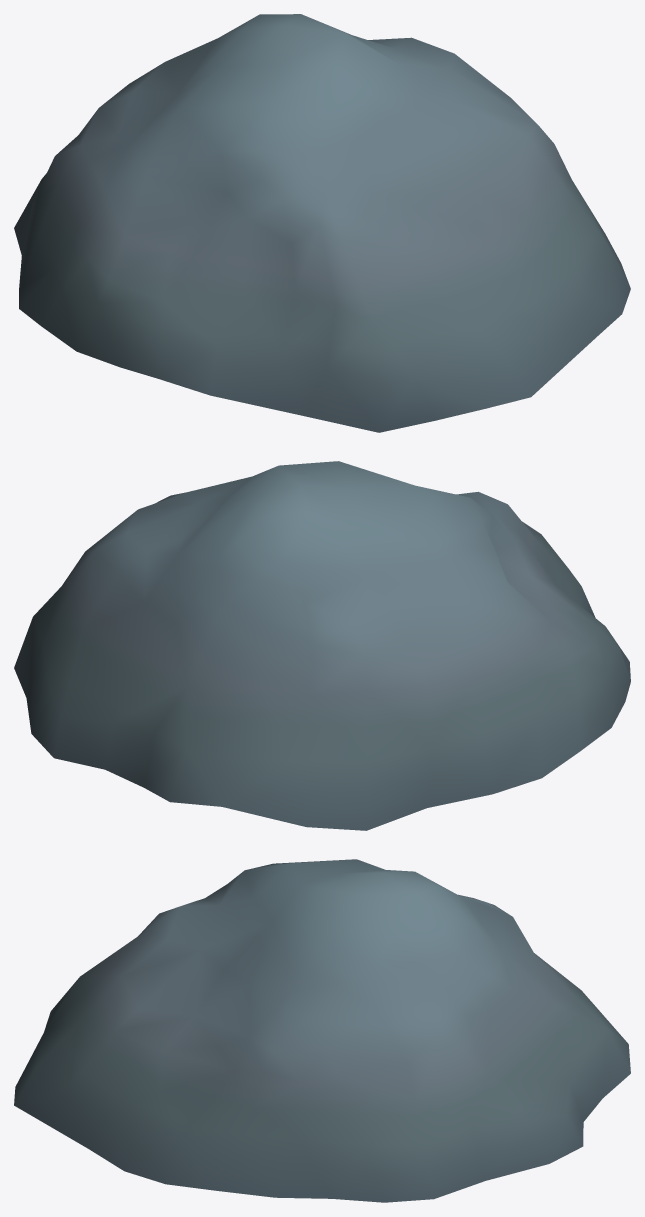
Rendered from HillSnowy_1.fbx.
The picture shows the model from 3 angles, top to bottom: view 1: azimuth 30°, elevation 25°; view 2: azimuth 150°, elevation 25°; view 3: azimuth 270°, elevation 25°; orthographic projection. The views are drawn at different scales.
Parts seen in each view (by area): view 1: HillSnowy_1; view 2: HillSnowy_1; view 3: HillSnowy_1.
Boxes of the visible parts, x1,y1,x2,y2 form: HillSnowy_1: (14,14,630,432); HillSnowy_1: (14,461,630,830); HillSnowy_1: (14,859,630,1202).
Bounding box in the file's own units: 731 × 322 × 799.
